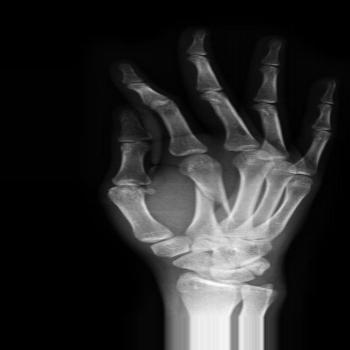Fracture: (183, 180, 223, 203)
